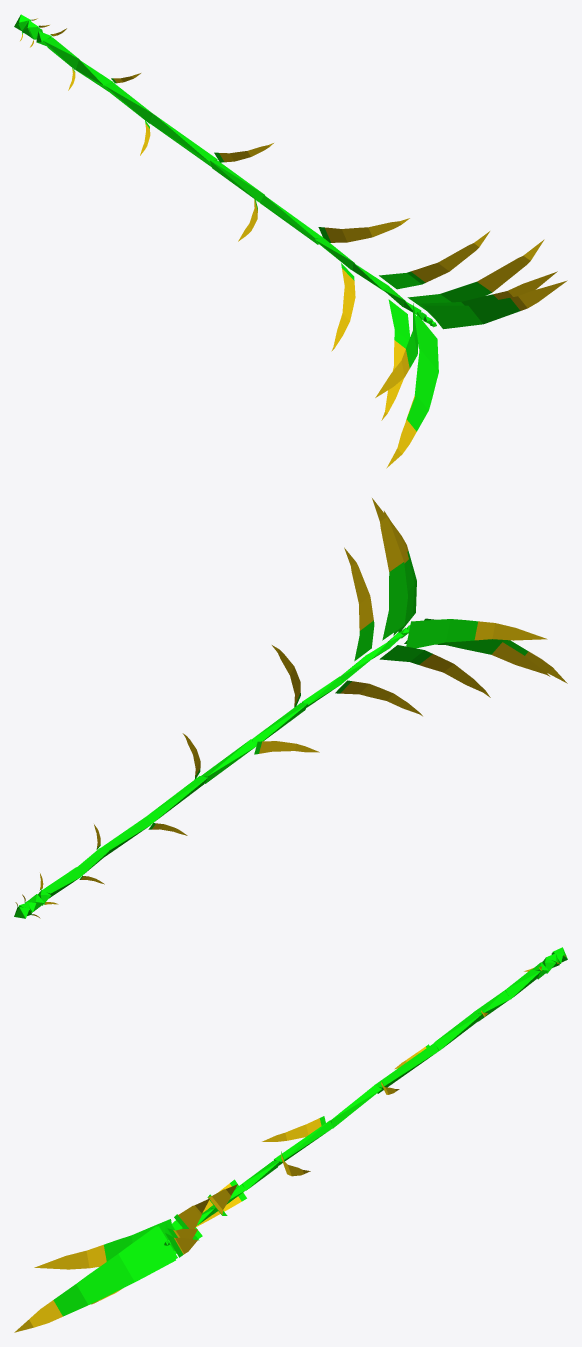
File: usm_10_2.5D_2018-09-18_9.obj
3 views of the same model, one above another, from view 1: azimuth 30°, elevation 25°; view 2: azimuth 150°, elevation 25°; view 3: azimuth 330°, elevation 25° (orthographic). The views are drawn at different scales.
Parts seen in each view (by area): view 1: vid_42, vid_40, vid_10000028, vid_32, vid_10000024, vid_10000032, vid_19, vid_10000026, vid_23, vid_21, vid_30, vid_17 (+1 smaller); view 2: vid_34, vid_32, vid_10000034, vid_10000028, vid_10000026, vid_10000032, vid_10000030, vid_19, vid_30, vid_10000038, vid_21, vid_23 (+2 smaller); view 3: vid_42, vid_10000034, vid_19, vid_34, vid_10000042, vid_23, vid_17, vid_10000022, vid_21.
Boxes of the visible parts, left/top/right/bottom form: vid_42: left=406, top=314, right=438, bottom=431; vid_40: left=424, top=298, right=520, bottom=329; vid_10000028: left=411, top=231, right=489, bottom=282; vid_32: left=407, top=281, right=491, bottom=310; vid_10000024: left=324, top=218, right=409, bottom=242; vid_10000032: left=477, top=239, right=544, bottom=292; vid_19: left=149, top=114, right=217, bottom=166; vid_10000026: left=331, top=268, right=355, bottom=351; vid_23: left=260, top=195, right=321, bottom=244; vid_21: left=210, top=160, right=264, bottom=202; vid_30: left=388, top=299, right=409, bottom=348; vid_17: left=104, top=82, right=153, bottom=123; vid_34: left=406, top=619, right=478, bottom=648; vid_32: left=382, top=562, right=407, bottom=640; vid_10000034: left=474, top=621, right=547, bottom=640; vid_10000028: left=344, top=547, right=373, bottom=630; vid_10000026: left=340, top=681, right=422, bottom=716; vid_10000032: left=372, top=498, right=403, bottom=571; vid_10000030: left=419, top=654, right=490, bottom=697; vid_19: left=147, top=776, right=207, bottom=824; vid_30: left=379, top=645, right=432, bottom=664; vid_10000038: left=491, top=642, right=550, bottom=676; vid_21: left=201, top=739, right=256, bottom=783; vid_23: left=251, top=703, right=307, bottom=745; vid_42: left=53, top=1226, right=175, bottom=1316; vid_10000034: left=34, top=1245, right=106, bottom=1269; vid_19: left=375, top=1042, right=438, bottom=1093; vid_34: left=104, top=1219, right=174, bottom=1261; vid_10000042: left=14, top=1300, right=62, bottom=1332; vid_23: left=274, top=1120, right=332, bottom=1165; vid_17: left=434, top=1012, right=481, bottom=1050; vid_10000022: left=262, top=1118, right=321, bottom=1141; vid_21: left=330, top=1085, right=381, bottom=1128.
Size of the model in its own units: 64.97 by 55.81 by 283.
